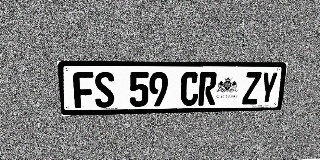5: (130, 72, 149, 107)
9: (149, 72, 168, 107)
C: (180, 72, 199, 106)
F: (72, 72, 95, 108)
R: (198, 72, 217, 105)
S: (94, 72, 115, 108)
Y: (258, 72, 278, 104)
Z: (242, 72, 262, 104)
